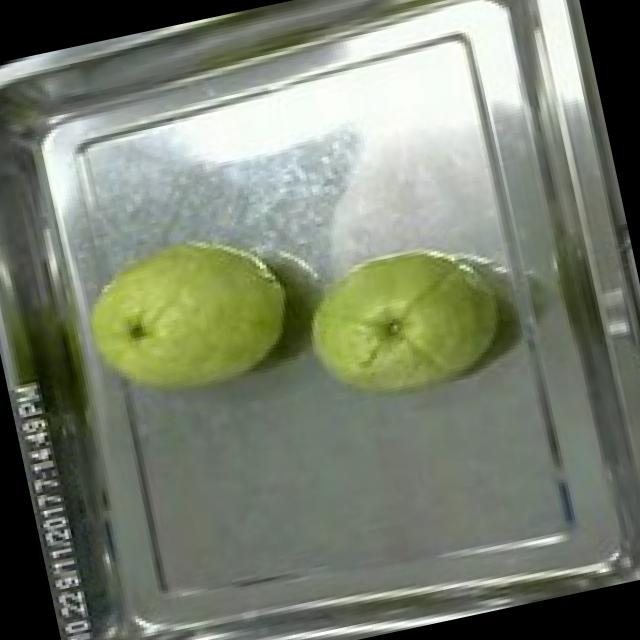Fruit: (60, 208, 312, 423), (281, 216, 523, 428)
